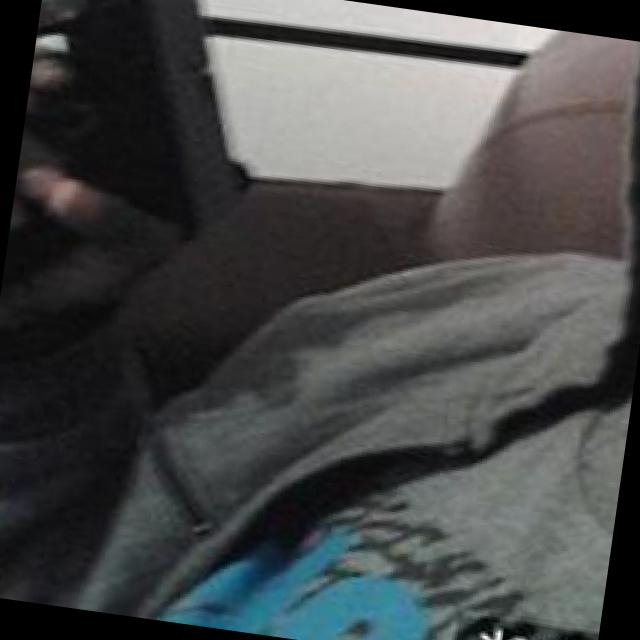Guns: (2, 0, 275, 309)
